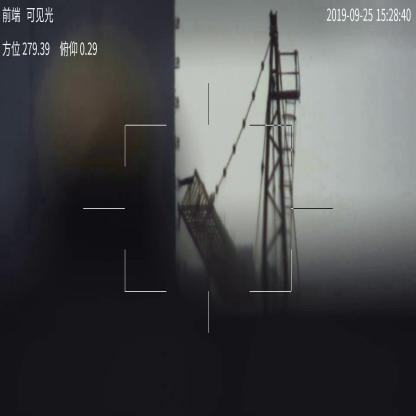uav: (177, 175, 196, 187)
